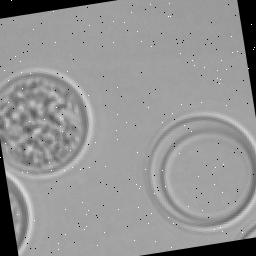picoshell: (147, 110, 256, 231), (0, 69, 94, 178), (7, 171, 35, 254), (243, 222, 256, 237)
